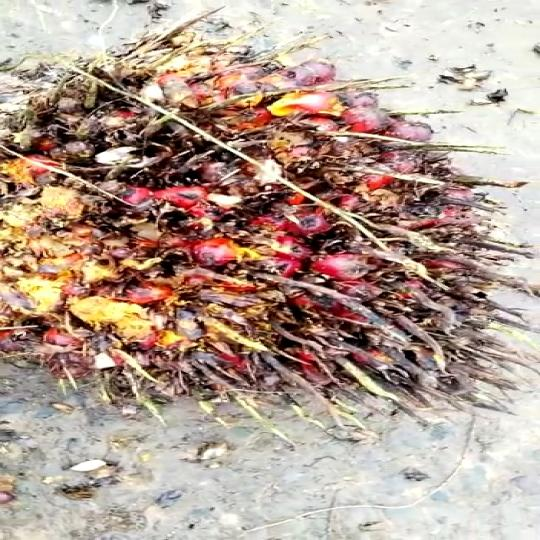terlalu masak: (0, 40, 540, 432)
